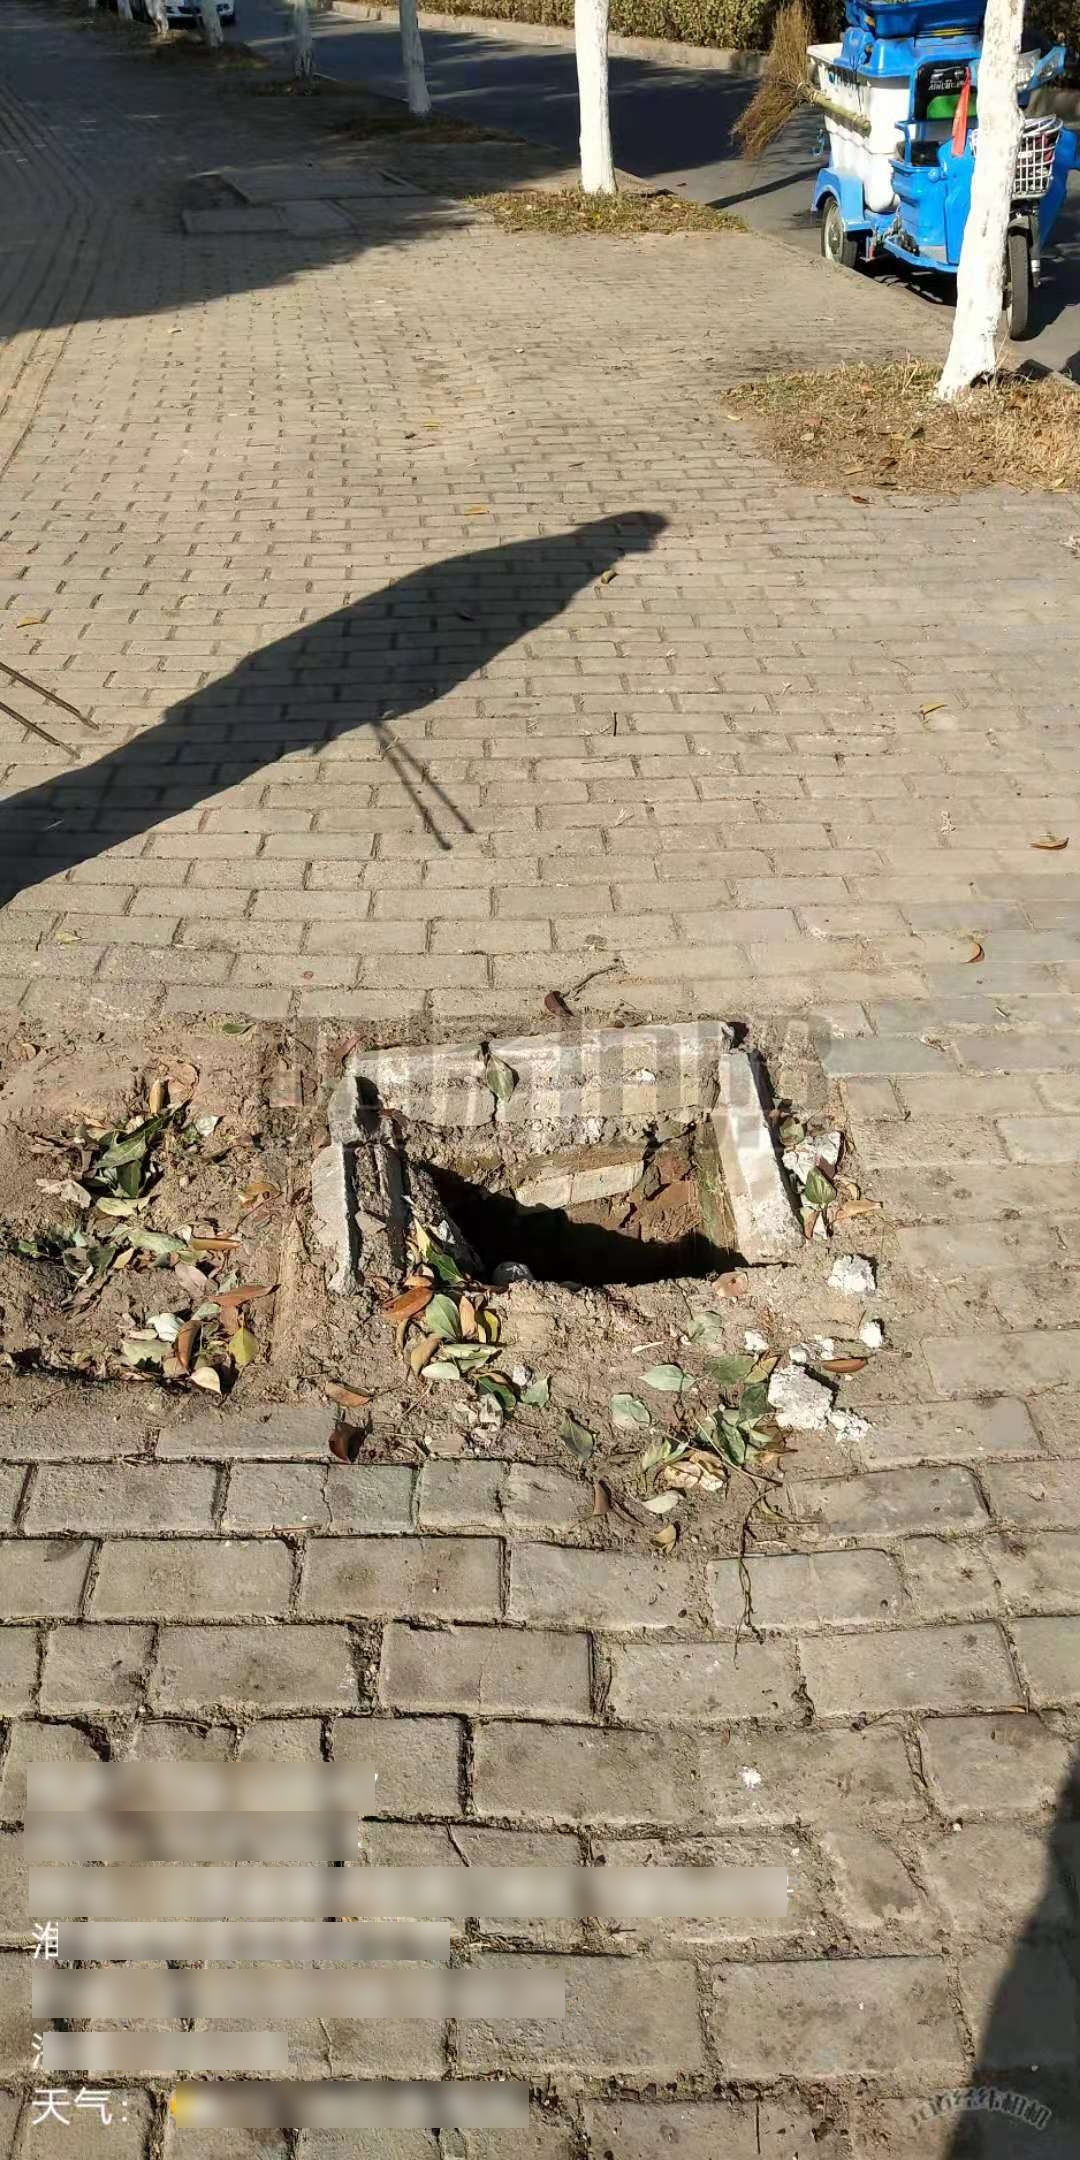lose: (320, 1022, 833, 1305)
